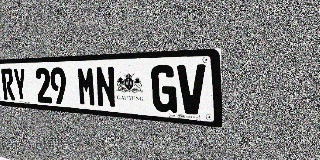2: (35, 67, 52, 103)
9: (50, 67, 67, 105)
G: (151, 65, 177, 113)
M: (77, 66, 97, 107)
N: (95, 66, 117, 108)
R: (1, 68, 15, 100)
V: (177, 64, 206, 115)
Y: (13, 68, 28, 101)
